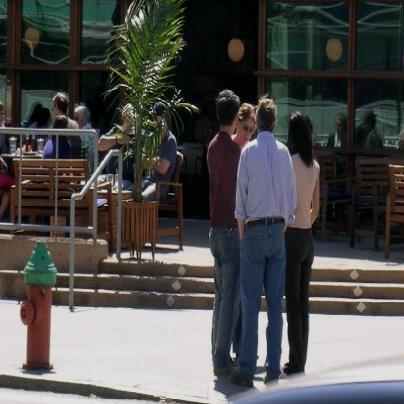ped: (233, 99, 297, 388), (210, 90, 243, 376), (286, 114, 321, 374)
